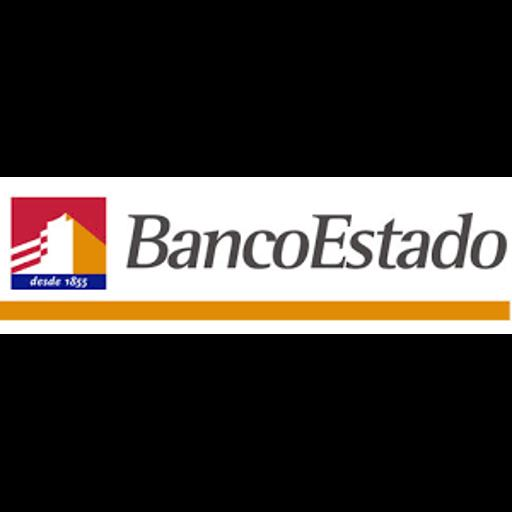Banco del Estado de Chile: (0, 177, 512, 334)
